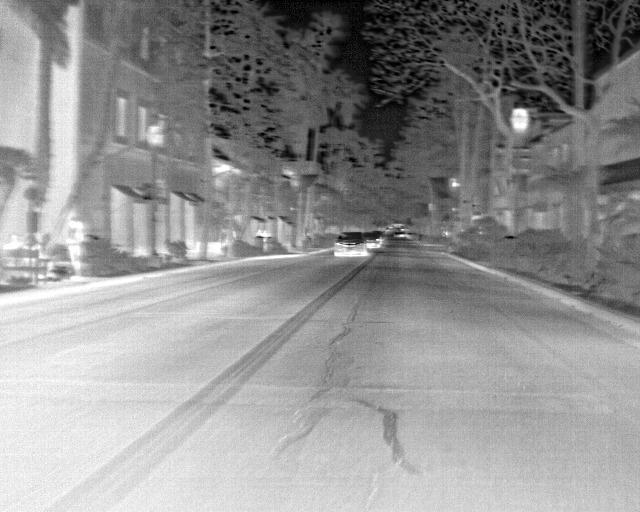bicycle: (334, 232, 370, 260), (362, 233, 379, 251), (372, 230, 384, 246)
empty: (62, 217, 86, 278)
